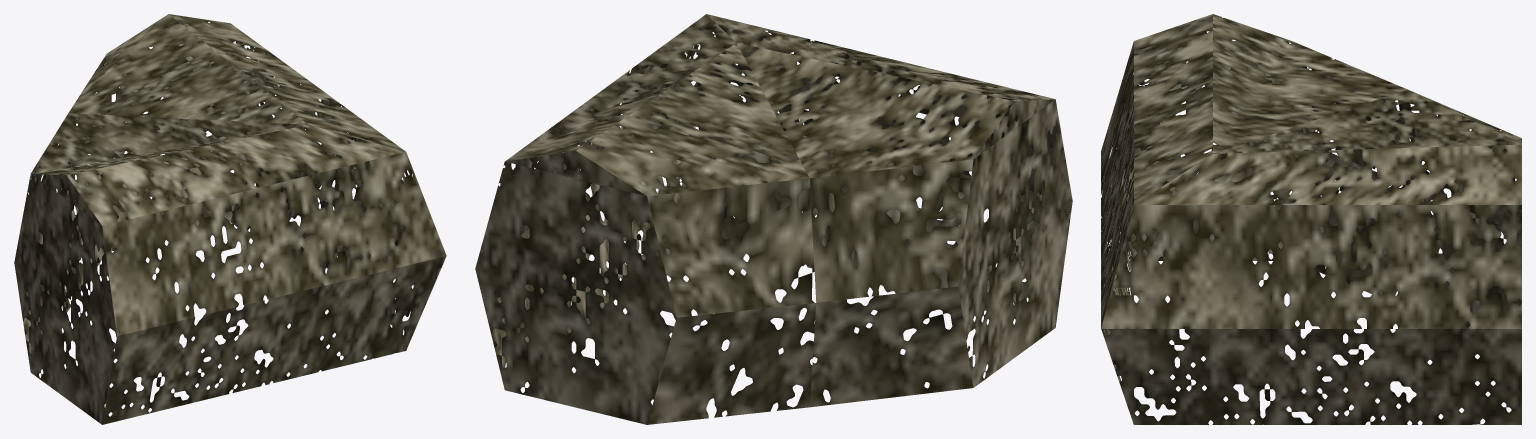
The model's file is bush_square_corner_filled_dead.fbx.
The picture shows the model from 3 angles, left to right: view 1: azimuth 30°, elevation 25°; view 2: azimuth 150°, elevation 25°; view 3: azimuth 270°, elevation 25°; orthographic projection. The views are drawn at different scales.
Visible parts, largest first — view 1: bush_square_corner_filled_dead; view 2: bush_square_corner_filled_dead; view 3: bush_square_corner_filled_dead.
Boxes of the visible parts, box(x1,y1,x2,y2) form: bush_square_corner_filled_dead: box(14, 14, 446, 424); bush_square_corner_filled_dead: box(475, 14, 1072, 424); bush_square_corner_filled_dead: box(1101, 14, 1521, 424).
Size of the model in its own units: 136 by 87.65 by 135.
1 material, 1 textured.
